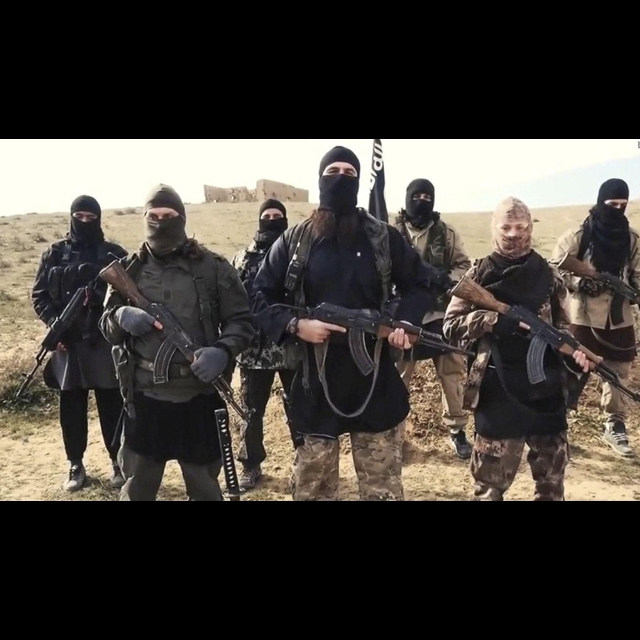AK47: (124, 300, 255, 424), (508, 299, 640, 410), (312, 297, 478, 378)
